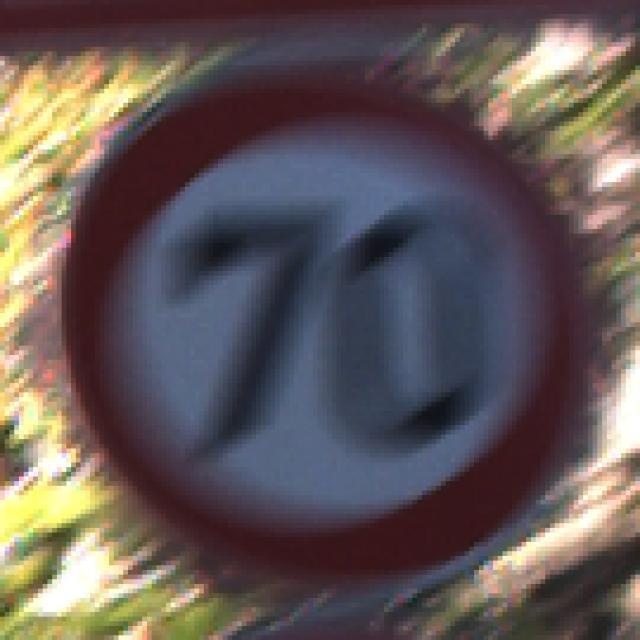Ograniczenie predkosci do 70: (69, 66, 587, 583)
